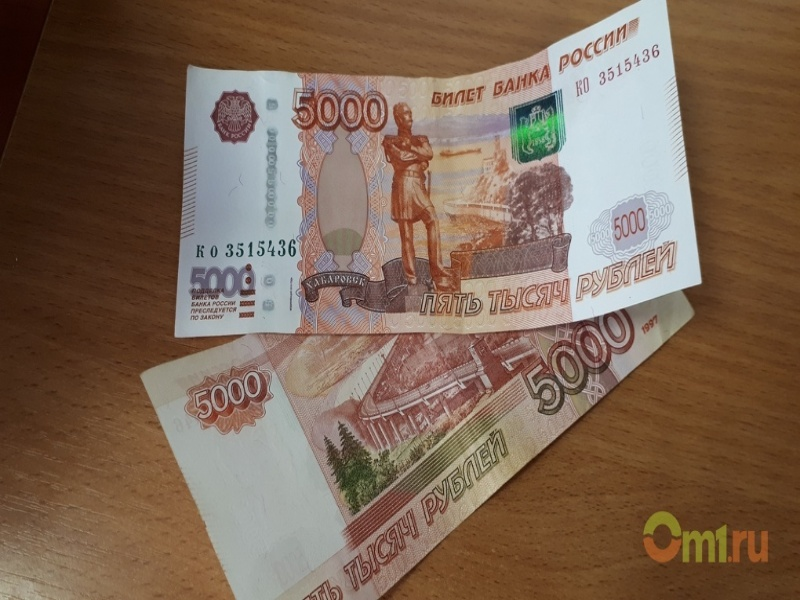cash: (171, 1, 702, 330), (138, 289, 696, 600)
